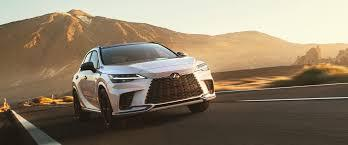lexus: (168, 71, 185, 83)
